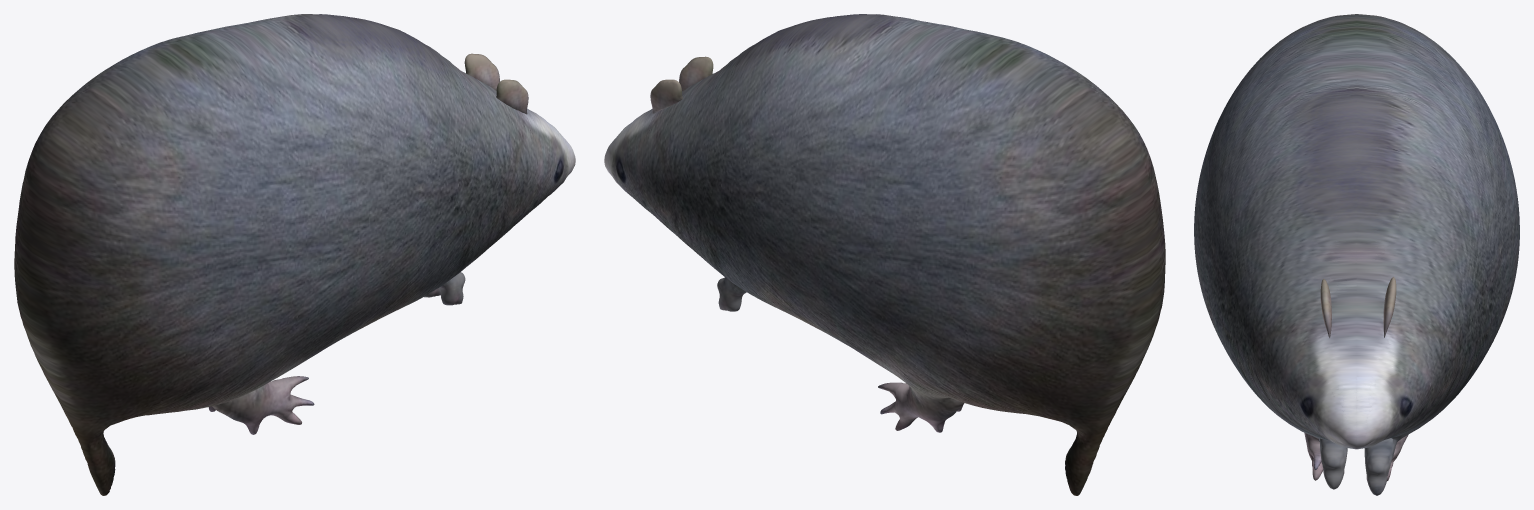
File: big_rat.glb
3 views of the same model, side by side, from view 1: azimuth 30°, elevation 25°; view 2: azimuth 150°, elevation 25°; view 3: azimuth 270°, elevation 25° (orthographic). The views are drawn at different scales.
Parts seen in each view (by area): view 1: node_id3; view 2: node_id3; view 3: node_id3.
Part boxes in pixels (box(x1,y1,x2,y2)): node_id3: box(14, 14, 575, 495); node_id3: box(604, 14, 1165, 495); node_id3: box(1194, 14, 1519, 495).
Size of the model in its own units: 0.5127 by 0.3838 by 0.2522.
Materials: 1 (1 with a texture image).
